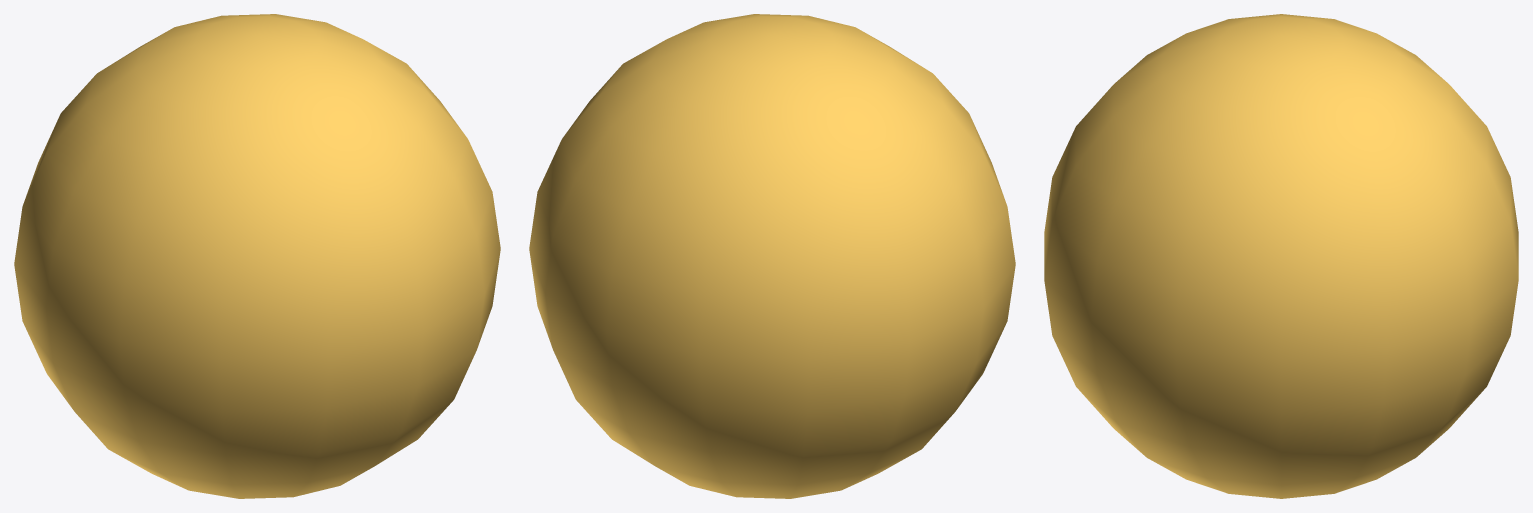
The model's file is toy_ball.glb.
3 views of the same model, side by side, from view 1: azimuth 30°, elevation 25°; view 2: azimuth 150°, elevation 25°; view 3: azimuth 270°, elevation 25° (orthographic).
Visible parts, largest first — view 1: toy_ball; view 2: toy_ball; view 3: toy_ball.
Part boxes in pixels (bbox=[...]): toy_ball: bbox=[14, 14, 500, 498]; toy_ball: bbox=[529, 14, 1015, 498]; toy_ball: bbox=[1044, 14, 1518, 498].
Bounding box in the file's own units: 14 × 14 × 13.65.
